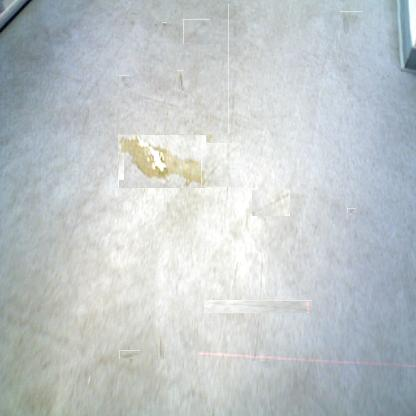liquid: (118, 134, 206, 188), (206, 134, 214, 142)
mark: (228, 277, 289, 337), (201, 143, 240, 187), (228, 4, 237, 134), (252, 190, 290, 216), (184, 18, 209, 44), (340, 11, 362, 36), (122, 347, 137, 362), (176, 70, 184, 91), (158, 333, 164, 359), (118, 76, 131, 88), (348, 207, 355, 214), (152, 20, 158, 28), (162, 22, 167, 28)
